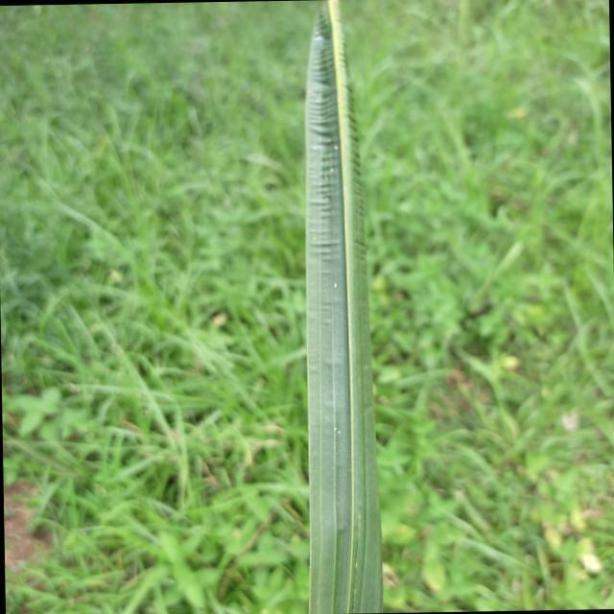Boron: (300, 3, 382, 614)
